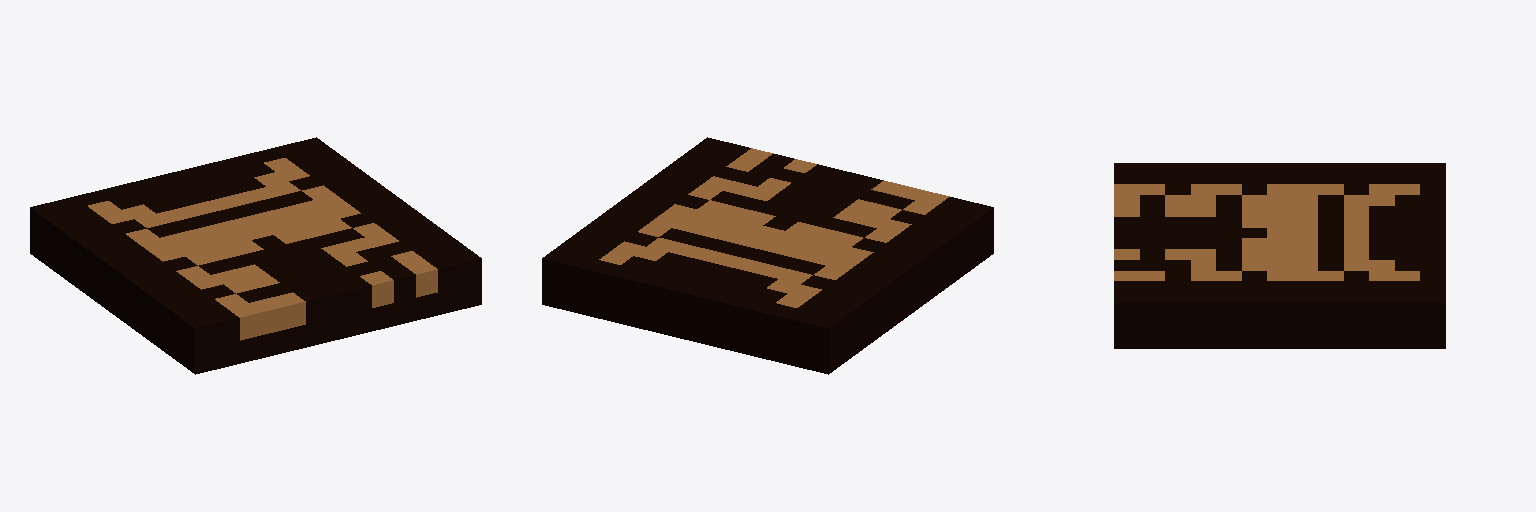
3 renders of one model, left to right at view 1: azimuth 30°, elevation 25°; view 2: azimuth 150°, elevation 25°; view 3: azimuth 270°, elevation 25°, orthographic.
Parts seen in each view (by area): view 1: object 1; view 2: object 1; view 3: object 1.
Boxes of the visible parts, <box> form: object 1: <box>30,137,481,374</box>; object 1: <box>542,137,993,374</box>; object 1: <box>1114,163,1445,348</box>.
Bounding box in the file's own units: 1.3 × 0.2 × 1.3.
1 materials, 1 textured.